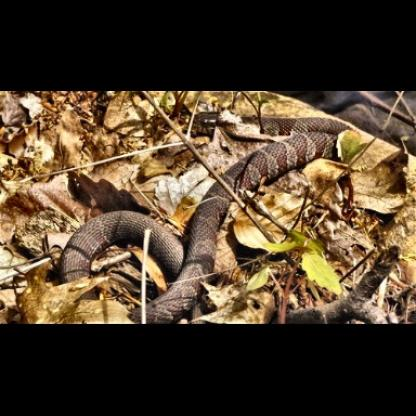Snake: (57, 108, 362, 317)
